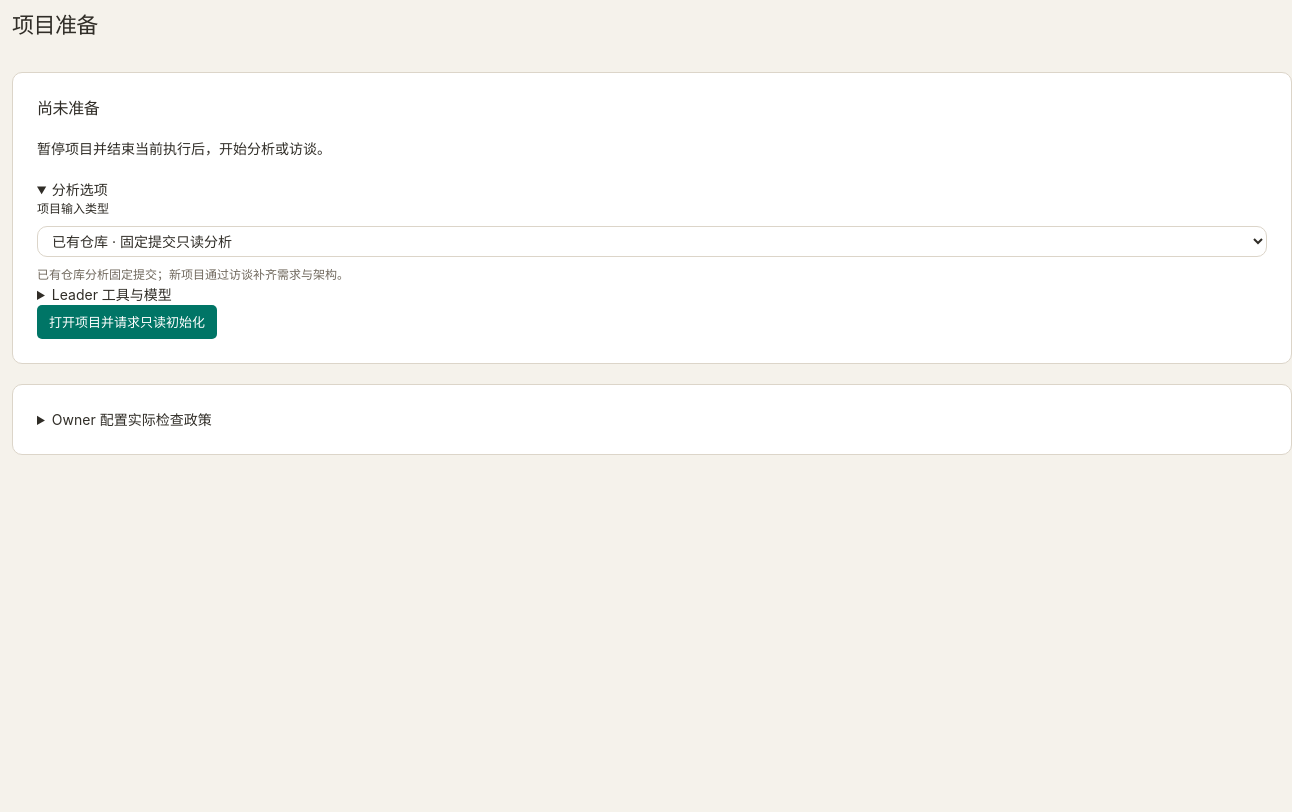
Test: keeps a selection whose model disappears on refresh and blocks a new execution
The width and height of the screenshot is (1292, 812).
Click the heading "Leader 工具与模型": [112, 295] box 52,286 -> 172,303
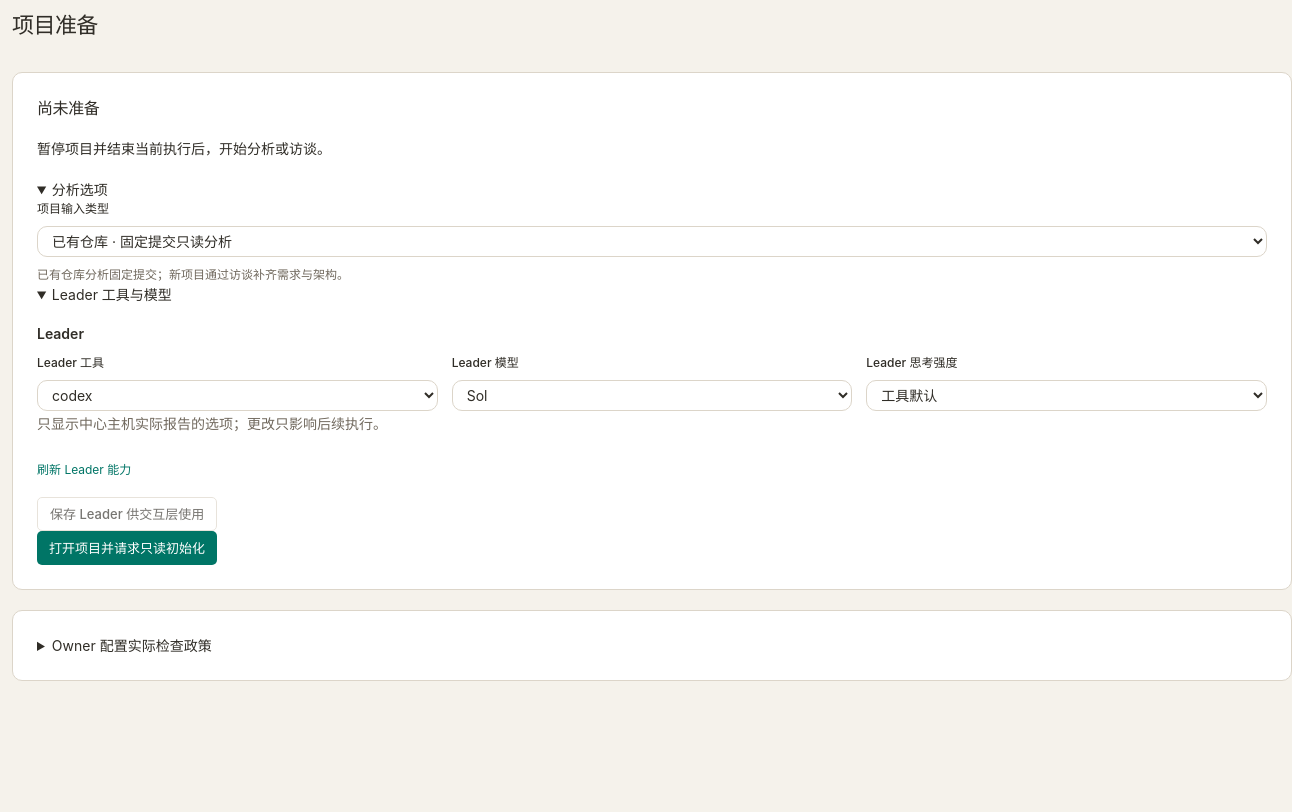
Select "dsh" in the dropdown labelled "Leader 工具": [237, 396] box 37,380 -> 438,411
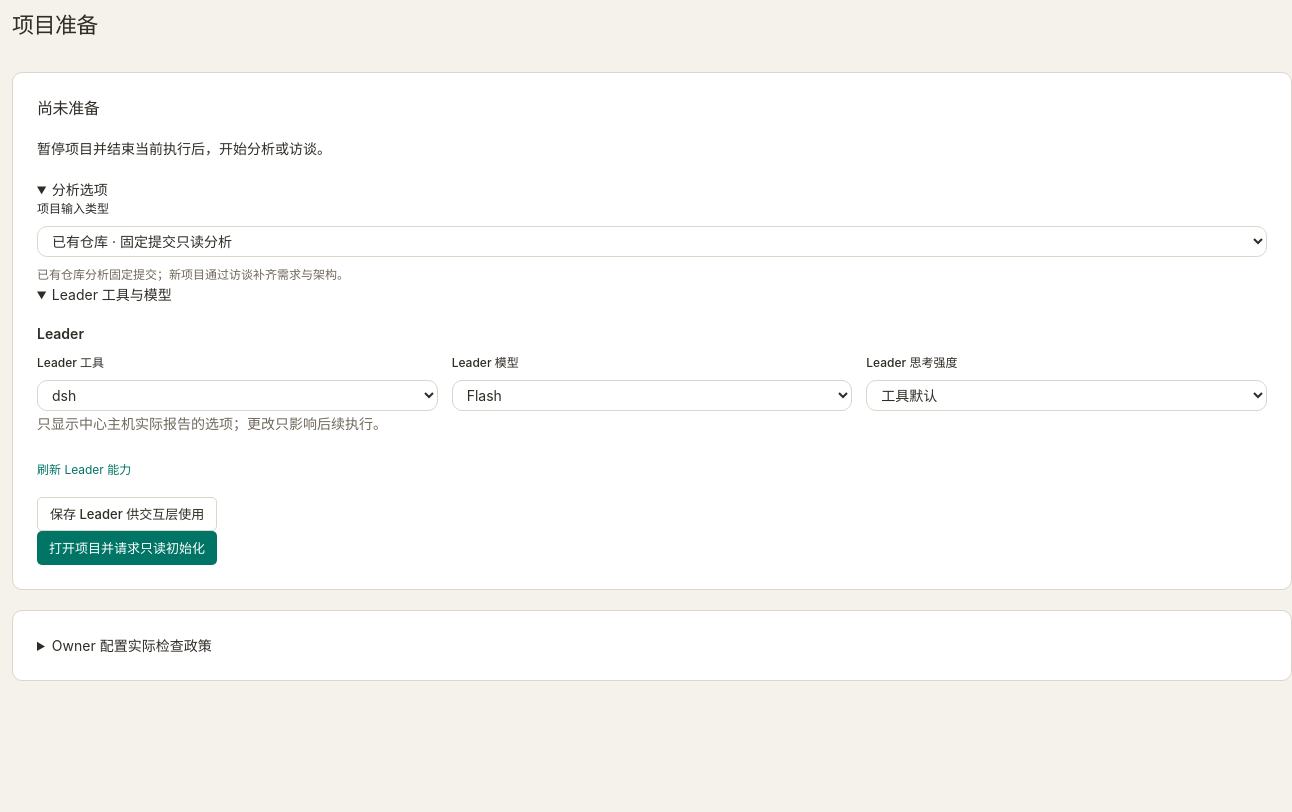
Click the button "刷新 Leader 能力": [84, 470] box 37,454 -> 131,487
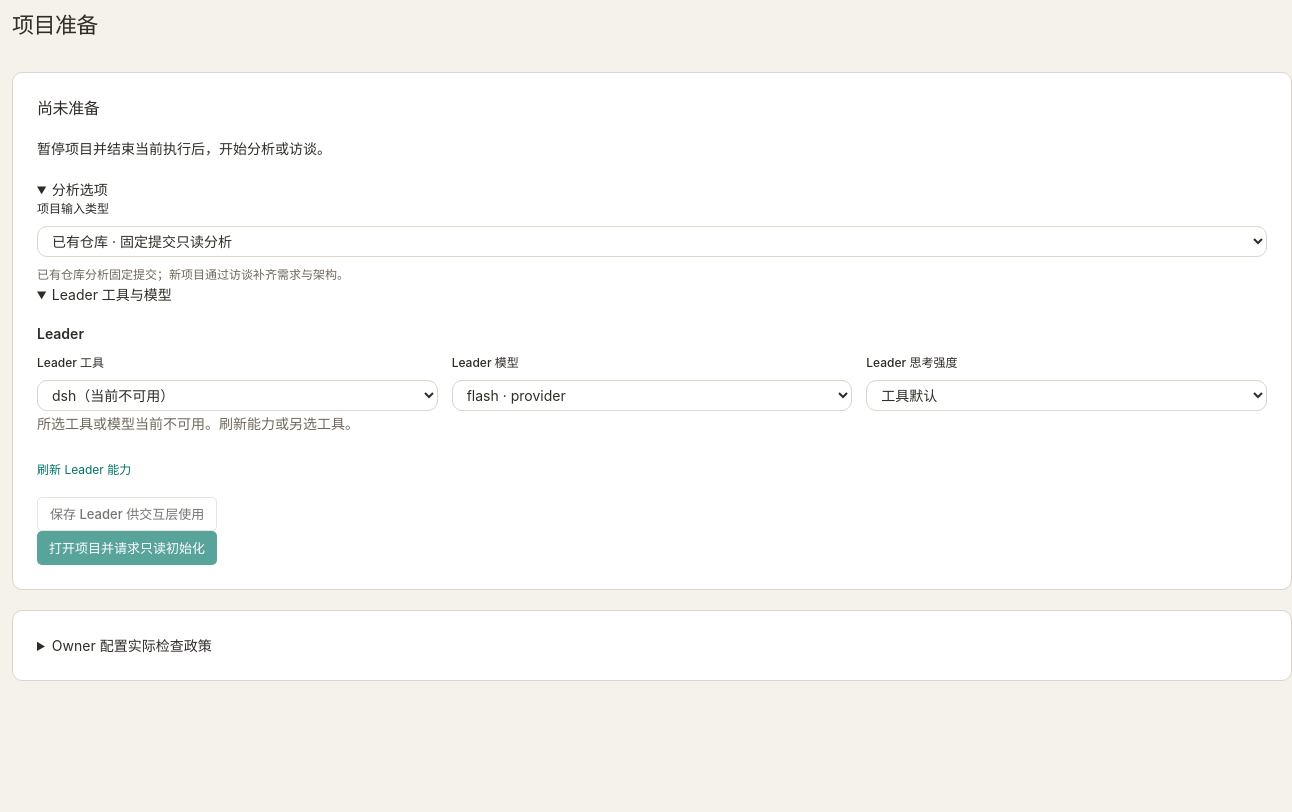
Check: the text "所选工具或模型当前不可用。刷新能力或另选工具。" is shown, box 37,415 -> 359,432
Check: the button "打开项目并请求只读初始化" is disabled, box 37,531 -> 217,565
